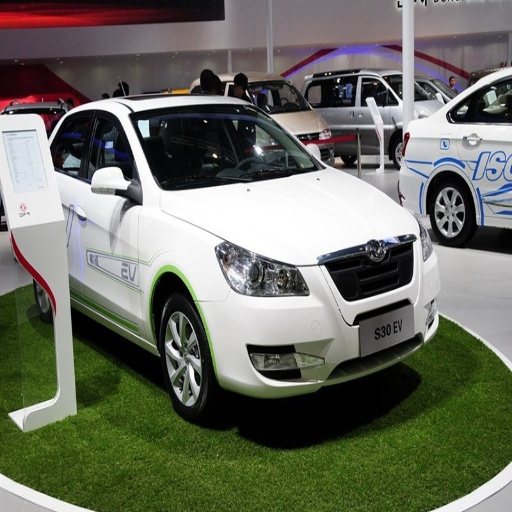front_bumper: (201, 229, 441, 399)
front_right_door: (77, 109, 145, 334)
front_right_light: (215, 241, 308, 297)
